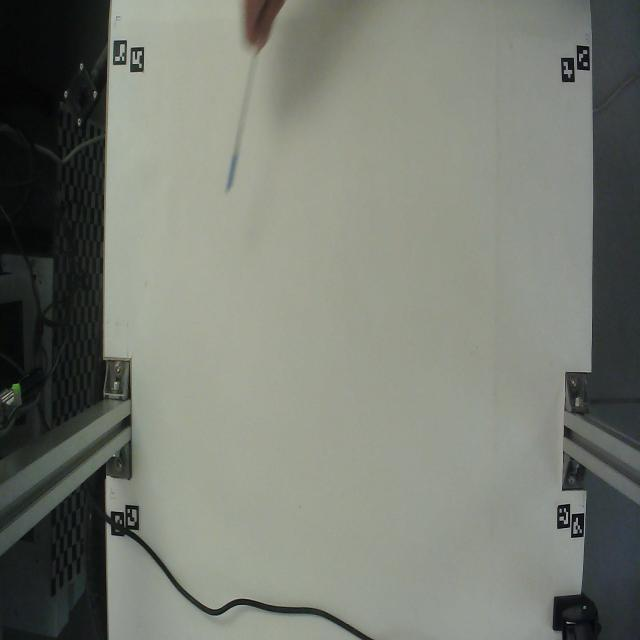NoPres: (205, 35, 290, 228)
